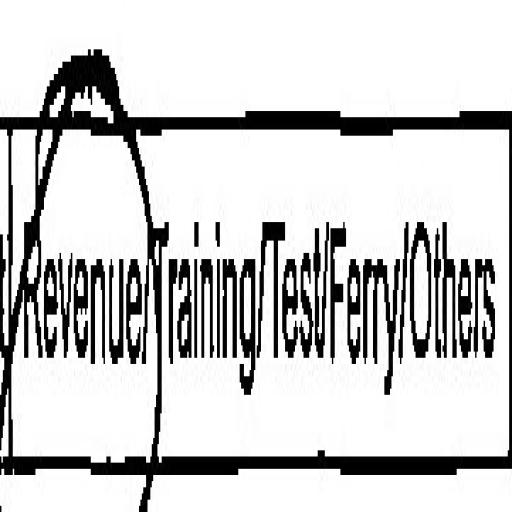check: (2, 9, 150, 512)
